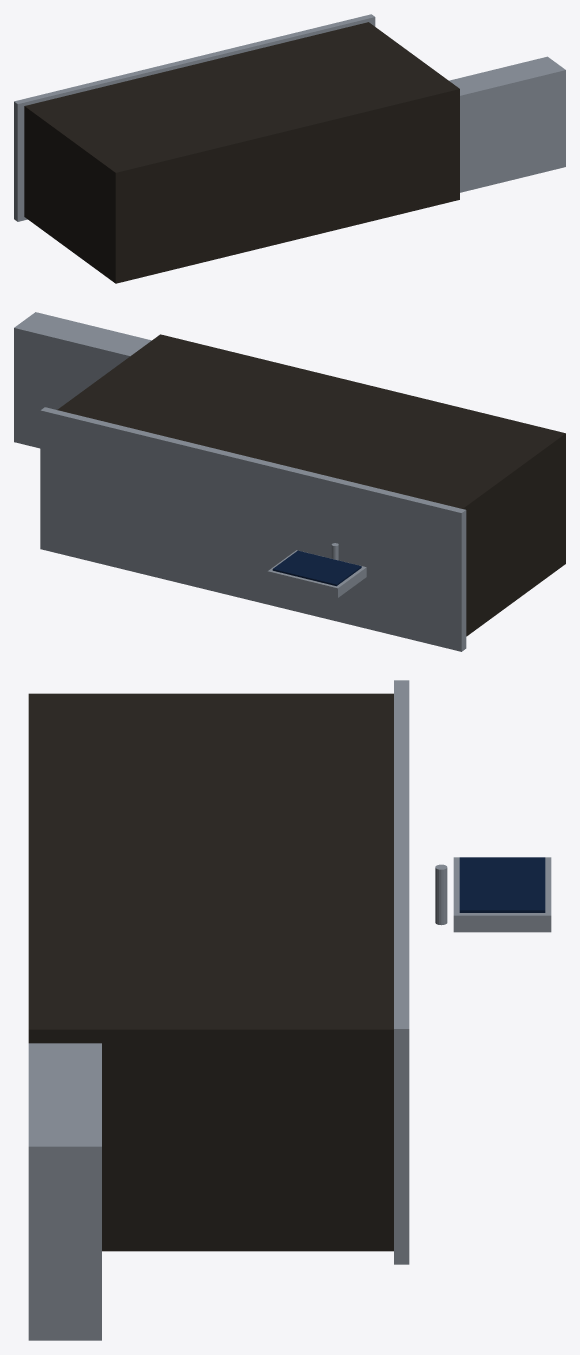
Rendered from checkin_counter.obj.
The picture shows the model from 3 angles, top to bottom: view 1: azimuth 30°, elevation 25°; view 2: azimuth 150°, elevation 25°; view 3: azimuth 270°, elevation 25°; orthographic projection. The views are drawn at different scales.
Parts seen in each view (by area): view 1: Checkin_Counter; view 2: Checkin_Counter; view 3: Checkin_Counter.
Boxes of the visible parts, <box> form: Checkin_Counter: <box>14,14,565,283</box>; Checkin_Counter: <box>14,312,565,651</box>; Checkin_Counter: <box>28,680,551,1340</box>.
Size of the model in its own units: 3.45 by 0.85 by 1.71.
